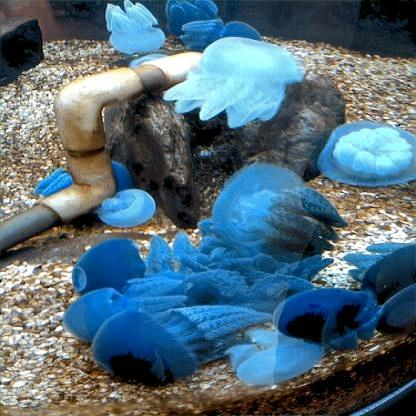Handstand: (87, 307, 273, 381), (162, 38, 304, 122), (212, 167, 342, 252), (178, 259, 328, 320), (62, 282, 188, 341), (71, 239, 181, 297), (278, 287, 374, 351), (317, 124, 411, 188), (168, 222, 255, 285), (224, 329, 322, 381), (34, 160, 134, 208), (338, 239, 416, 297), (104, 4, 162, 56), (179, 20, 267, 54), (163, 1, 224, 44), (97, 190, 161, 226), (374, 285, 415, 335), (131, 54, 170, 72)
